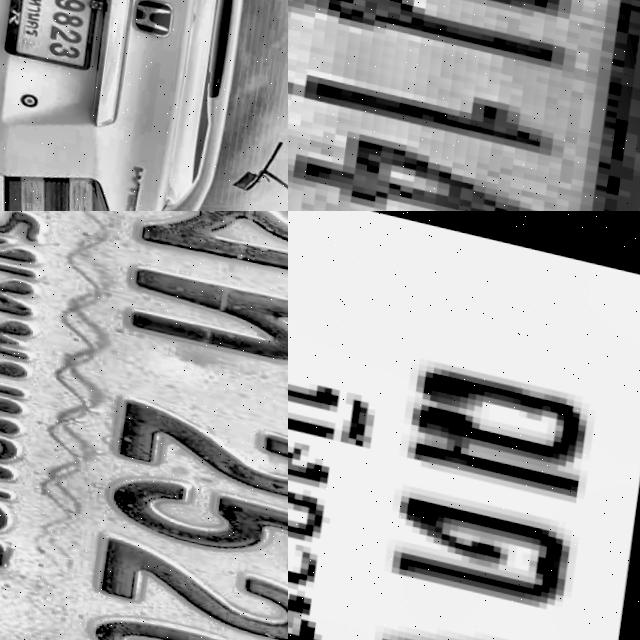license-plate: (288, 211, 640, 640), (0, 211, 288, 640), (288, 0, 640, 211), (0, 0, 108, 69)
